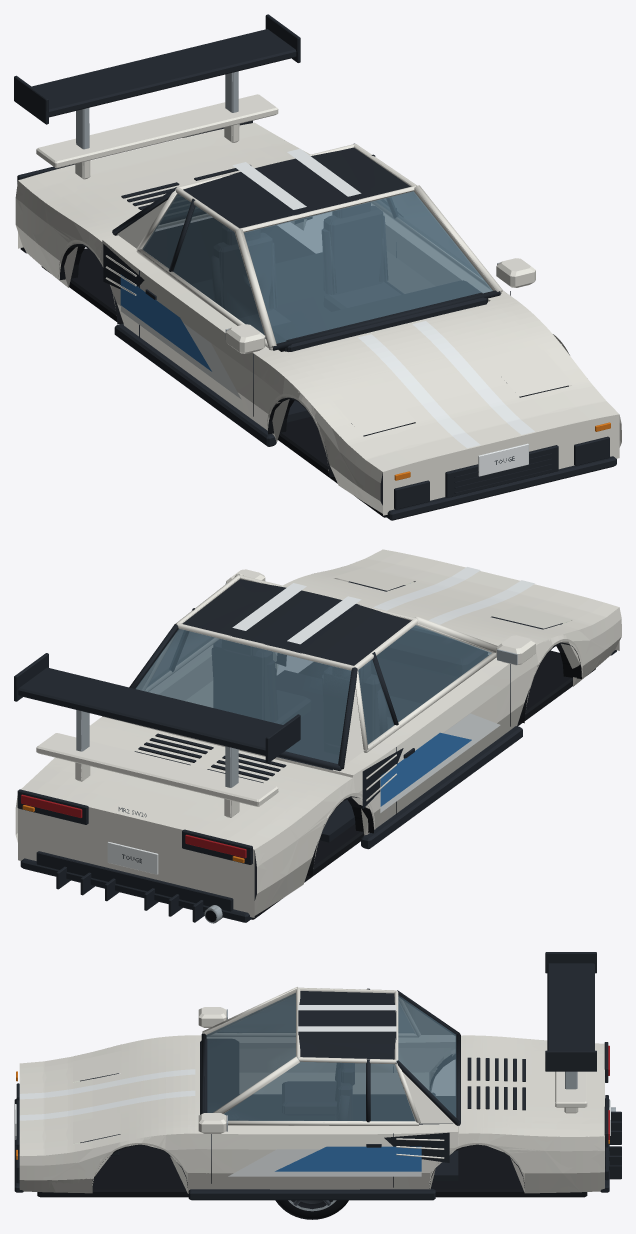
The picture shows the model from 3 angles, top to bottom: view 1: azimuth 30°, elevation 25°; view 2: azimuth 150°, elevation 25°; view 3: azimuth 270°, elevation 25°; orthographic projection. The views are drawn at different scales.
Parts seen in each view (by area): view 1: LOD0_body, LOD1_body, LOD0_glass, LOD1_glass, LOD0_cabin, LOD0_hood, LOD0_spoiler_gt, LOD1_hood, LOD1_cabin, LOD0_spoiler_stock, LOD1_spoiler_gt, LOD0_vinyl_apex (+5 smaller); view 2: LOD0_body, LOD1_body, LOD0_cabin, LOD0_glass, LOD1_glass, LOD0_spoiler_gt, LOD1_hood, LOD0_spoiler_stock, LOD1_cabin, LOD0_hood, LOD0_vinyl_apex, LOD1_spoiler_gt (+5 smaller); view 3: LOD0_body, LOD1_body, LOD1_glass, LOD0_glass, LOD0_cabin, LOD0_hood, LOD1_hood, LOD1_cabin, LOD0_spoiler_gt, LOD0_vinyl_apex, LOD1_spoiler_gt, LOD0_vinyl_twin (+6 smaller).
Part boxes in pixels (<box>): LOD0_body: <box>15,120,619,520</box>; LOD1_body: <box>15,122,621,520</box>; LOD0_glass: <box>143,191,492,343</box>; LOD1_glass: <box>142,191,492,343</box>; LOD0_cabin: <box>112,143,502,422</box>; LOD0_hood: <box>282,301,590,462</box>; LOD0_spoiler_gt: <box>14,14,300,149</box>; LOD1_hood: <box>290,307,604,467</box>; LOD1_cabin: <box>114,144,501,422</box>; LOD0_spoiler_stock: <box>36,94,277,179</box>; LOD1_spoiler_gt: <box>21,29,299,149</box>; LOD0_vinyl_apex: <box>120,274,241,399</box>; LOD0_body: <box>15,551,621,923</box>; LOD1_body: <box>15,549,619,922</box>; LOD0_cabin: <box>129,573,497,842</box>; LOD0_glass: <box>135,625,491,763</box>; LOD1_glass: <box>136,625,490,763</box>; LOD0_spoiler_gt: <box>14,653,300,787</box>; LOD1_hood: <box>321,552,604,633</box>; LOD0_spoiler_stock: <box>36,733,278,817</box>; LOD1_cabin: <box>132,573,495,842</box>; LOD0_hood: <box>303,555,590,654</box>; LOD0_vinyl_apex: <box>380,713,500,812</box>; LOD1_spoiler_gt: <box>14,653,282,787</box>; LOD0_body: <box>14,1007,621,1200</box>; LOD1_body: <box>15,1007,609,1199</box>; LOD1_glass: <box>206,993,456,1121</box>; LOD0_glass: <box>206,993,456,1120</box>; LOD0_cabin: <box>200,987,460,1180</box>; LOD0_hood: <box>19,1042,199,1148</box>; LOD1_hood: <box>19,1043,191,1149</box>; LOD1_cabin: <box>201,987,460,1180</box>; LOD0_spoiler_gt: <box>545,952,596,1089</box>; LOD0_vinyl_apex: <box>228,1146,421,1176</box>; LOD1_spoiler_gt: <box>545,953,596,1088</box>; LOD0_vinyl_twin: <box>21,1005,396,1120</box>.
Size of the model in its own units: 1.96 by 1.68 by 4.33.
